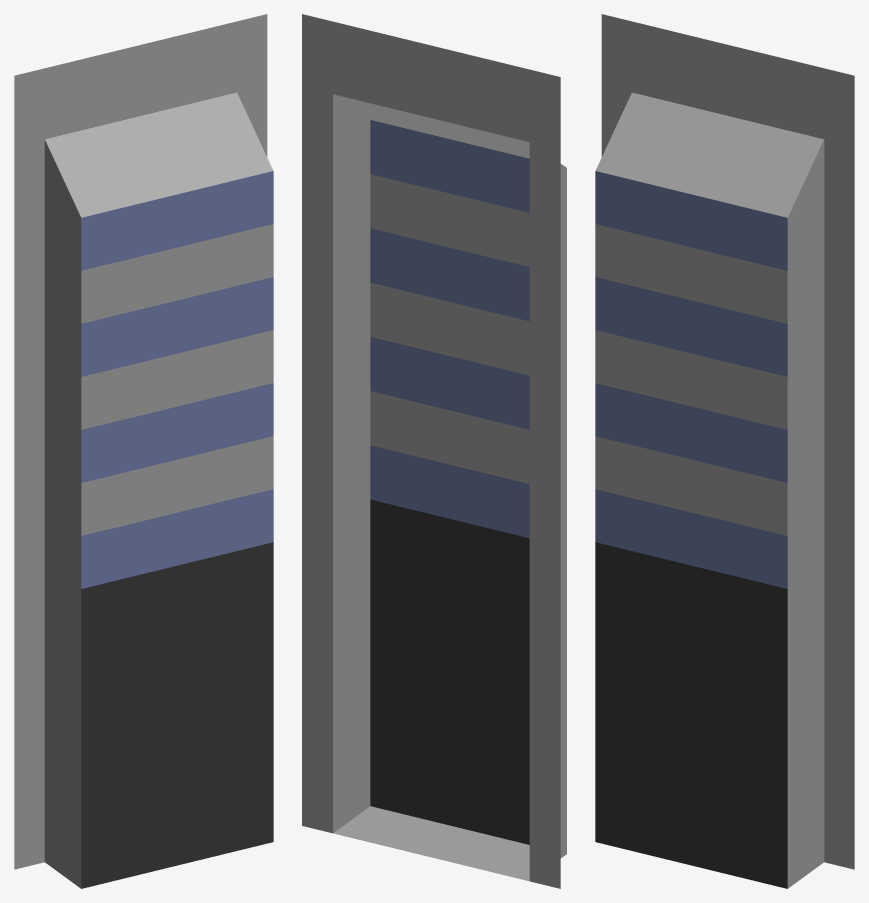
The model's file is WallBottom-Alternate.fbx.
3 views of the same model, side by side, from view 1: azimuth 30°, elevation 25°; view 2: azimuth 150°, elevation 25°; view 3: azimuth 330°, elevation 25° (orthographic). The views are drawn at different scales.
Visible parts, largest first — view 1: WallBottomAlternate; view 2: WallBottomAlternate; view 3: WallBottomAlternate.
Boxes of the visible parts, x1,y1,x2,y2 form: WallBottomAlternate: [14, 14, 273, 888]; WallBottomAlternate: [302, 14, 566, 888]; WallBottomAlternate: [595, 14, 854, 888].
Size of the model in its own units: 1 by 3 by 0.25.
